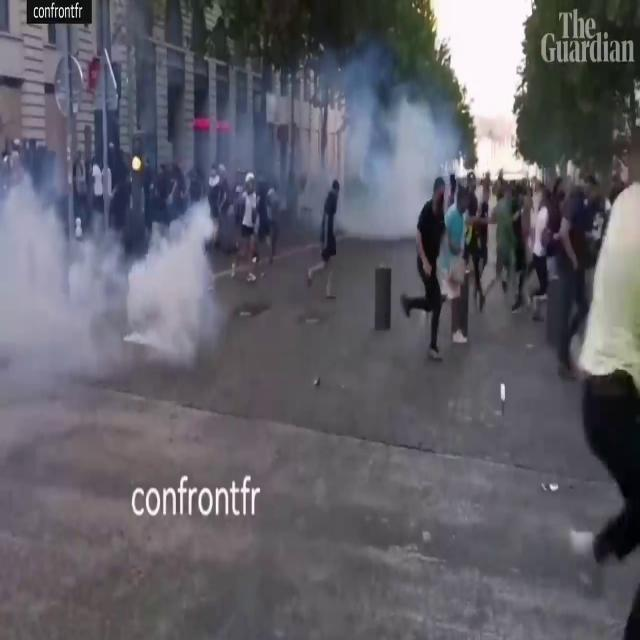Smoke: (0, 144, 221, 388), (334, 38, 454, 242)
